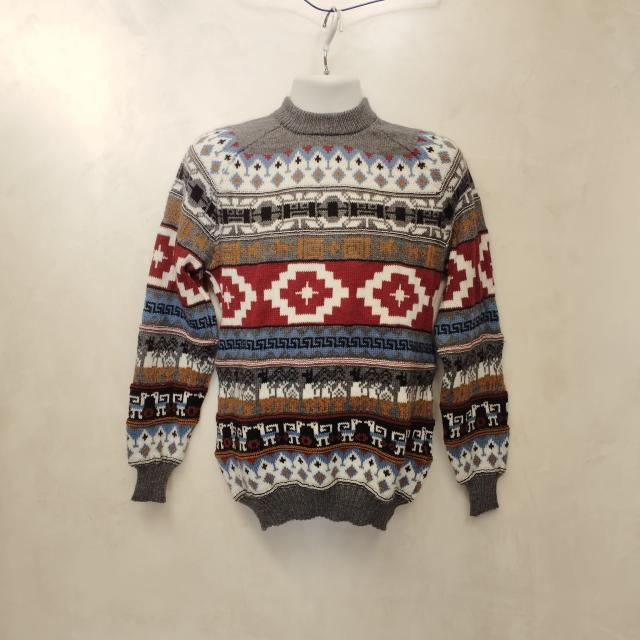Chompa: (125, 74, 510, 532)
